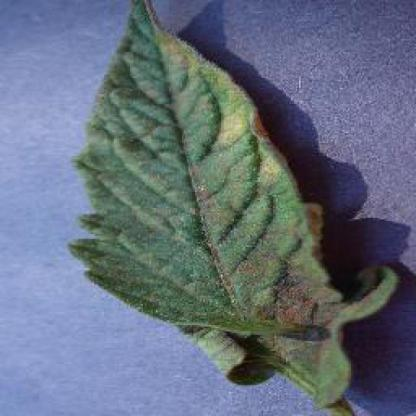Tomato_Leaf_Mold: (72, 0, 400, 398)
